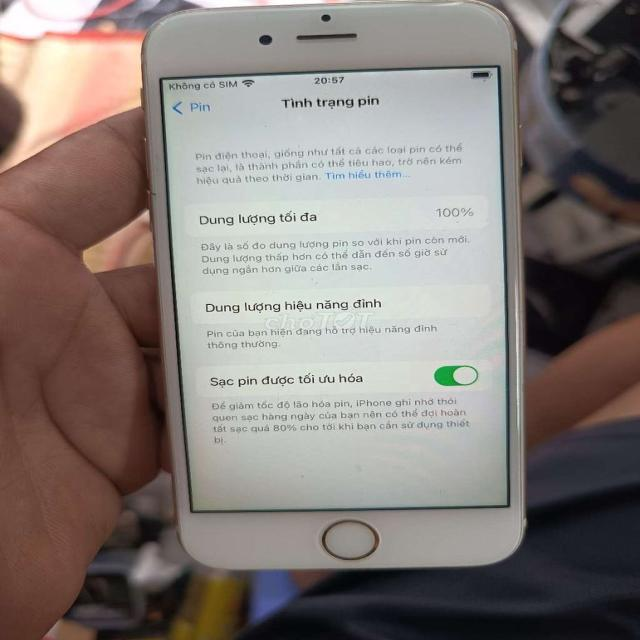gen_6: (137, 2, 546, 574)
